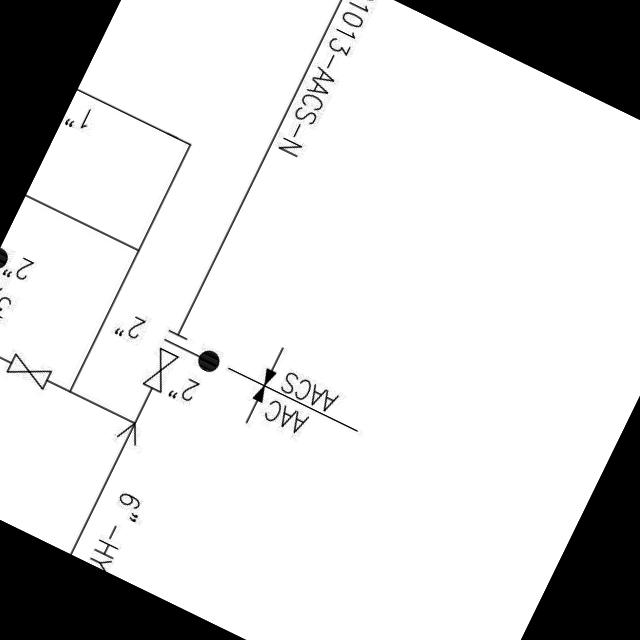GV: (2, 348, 56, 392), (140, 346, 182, 396)
